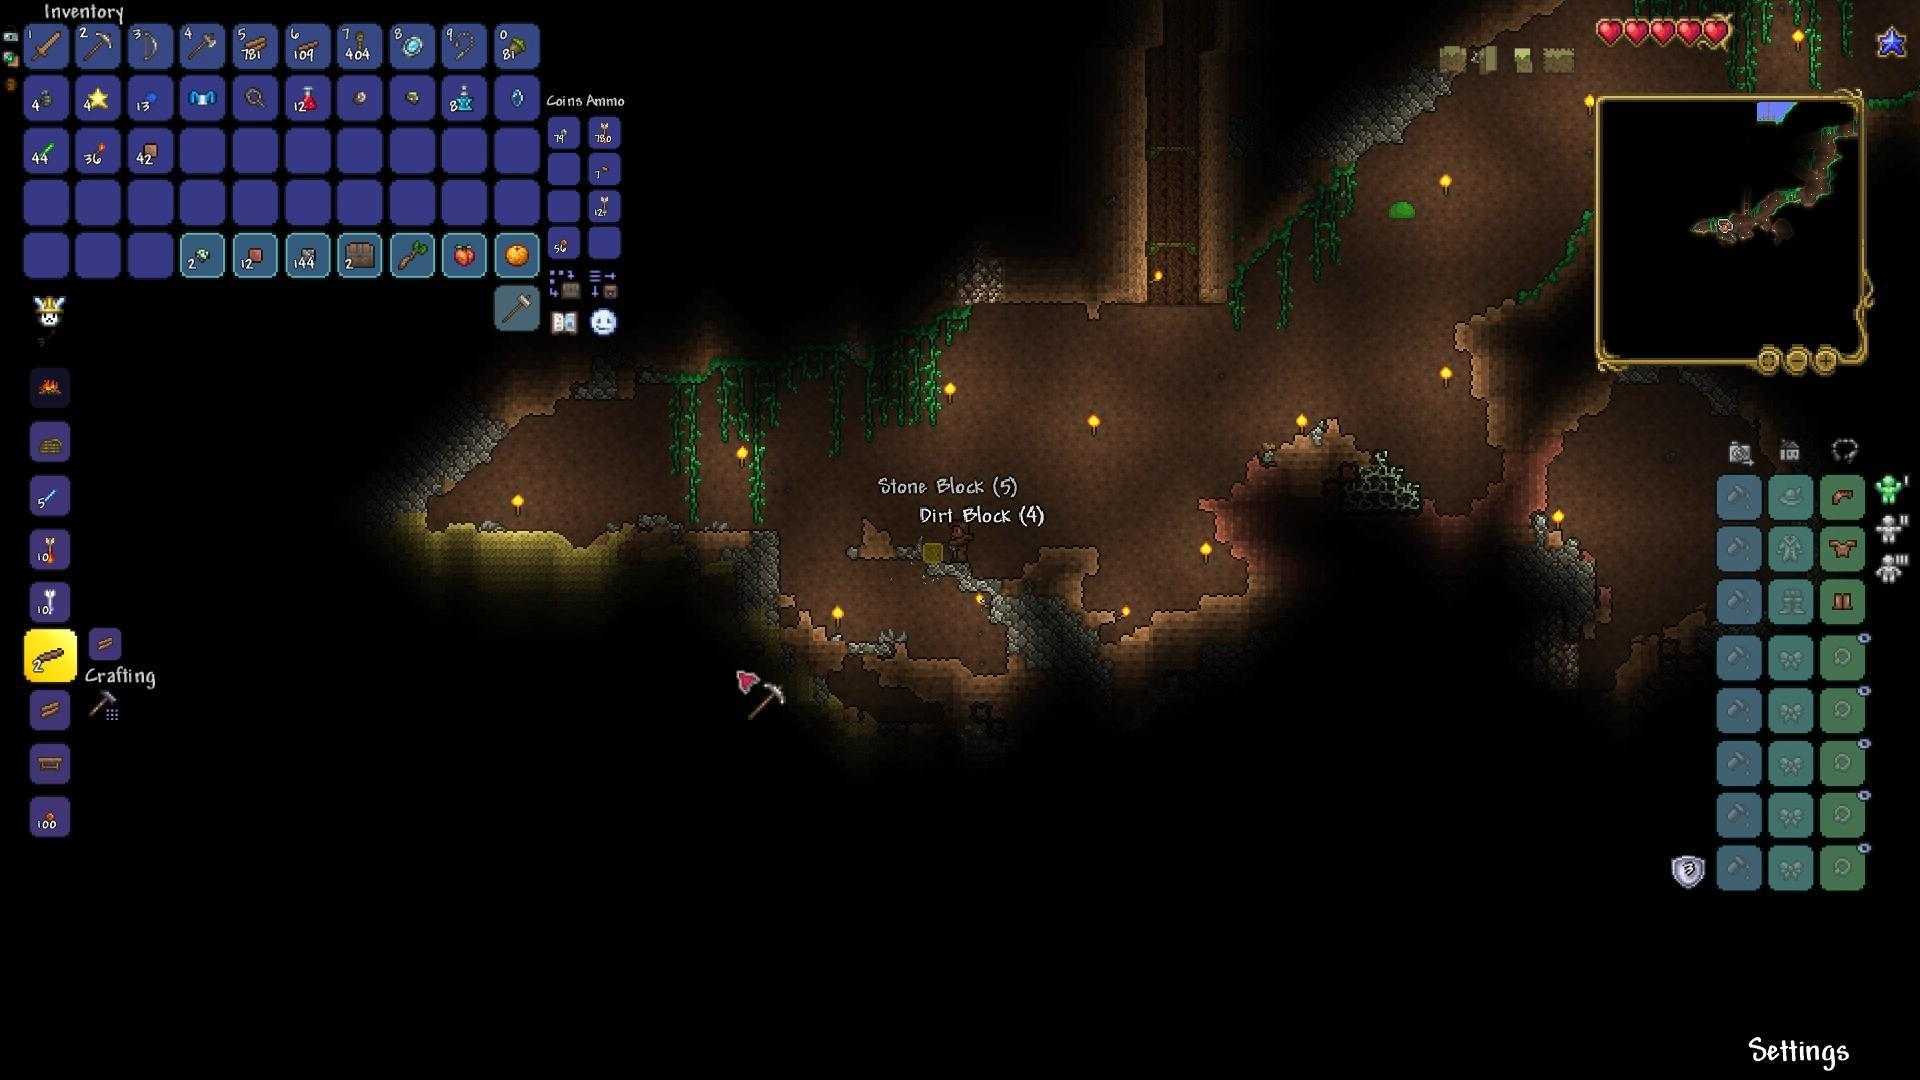chest: (343, 241, 381, 270)
pickaxe: (745, 680, 793, 723)
potion: (298, 80, 323, 113)
recallP: (452, 80, 476, 115)
slime: (1385, 196, 1419, 224)
